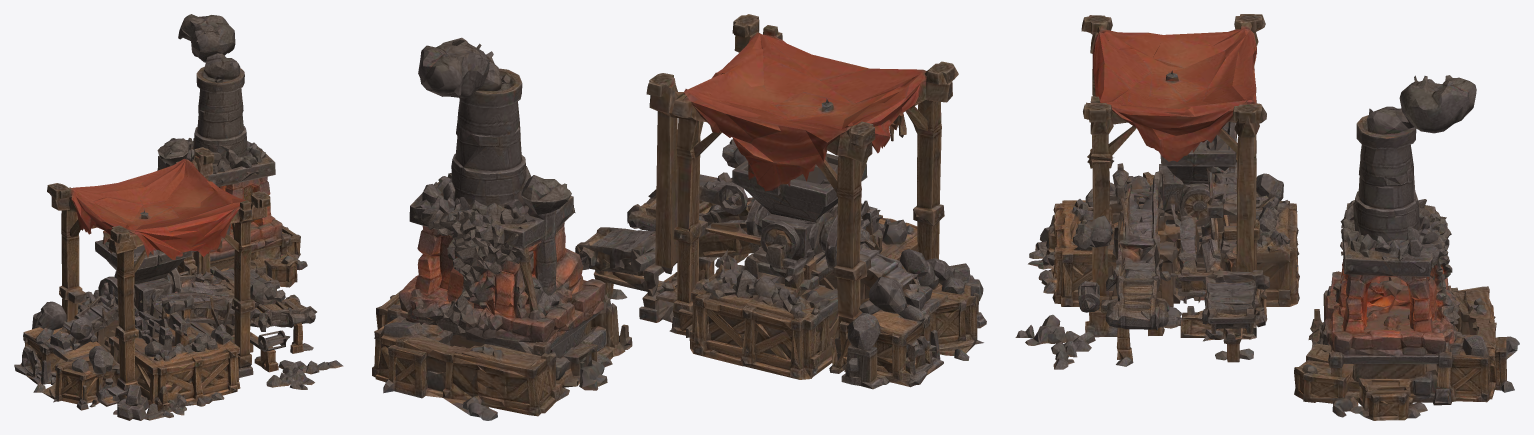
Rendered from CampForge.glb.
3 renders of one model, left to right at view 1: azimuth 30°, elevation 25°; view 2: azimuth 150°, elevation 25°; view 3: azimuth 270°, elevation 25°, orthographic. The views are drawn at different scales.
Parts seen in each view (by area): view 1: Part00, Part01, Part10, Part11; view 2: Part11, Part10, Part01, Part00; view 3: Part01, Part00, Part10, Part11.
Part boxes in pixels (left/top/right/bottom): Part00: left=24, top=15, right=342, bottom=412; Part01: left=22, top=14, right=313, bottom=420; Part10: left=14, top=145, right=343, bottom=420; Part11: left=18, top=21, right=317, bottom=416; Part11: left=374, top=37, right=986, bottom=420; Part10: left=372, top=33, right=983, bottom=406; Part01: left=376, top=14, right=983, bottom=416; Part00: left=372, top=35, right=975, bottom=419; Part01: left=1016, top=14, right=1514, bottom=420; Part00: left=1015, top=14, right=1509, bottom=415; Part10: left=1025, top=21, right=1514, bottom=417; Part11: left=1029, top=31, right=1519, bottom=418.
Size of the model in its own units: 1.9 by 1.25 by 1.9.
4 materials, 4 textured.
